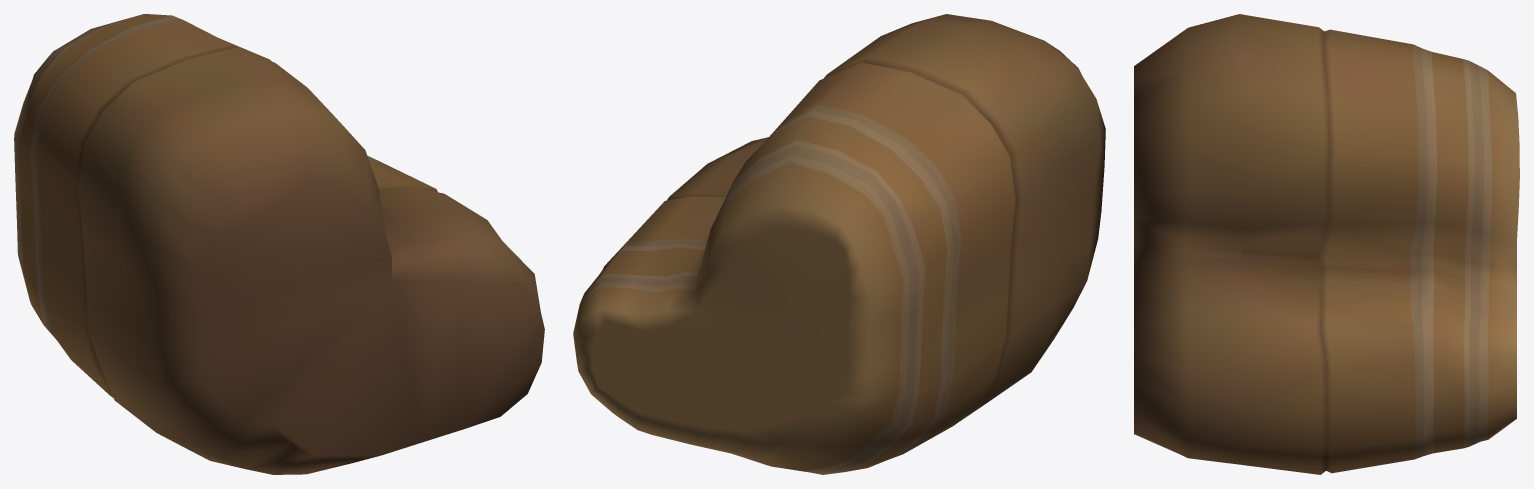
Rendered from SandStoneMesaLarge.002.glb.
3 views of the same model, side by side, from view 1: azimuth 30°, elevation 25°; view 2: azimuth 150°, elevation 25°; view 3: azimuth 270°, elevation 25° (orthographic). The views are drawn at different scales.
Parts seen in each view (by area): view 1: SandStoneMesaLarge.002; view 2: SandStoneMesaLarge.002; view 3: SandStoneMesaLarge.002.
Part boxes in pixels (left/top/right/bottom): SandStoneMesaLarge.002: left=14, top=14, right=544, bottom=474; SandStoneMesaLarge.002: left=573, top=14, right=1105, bottom=474; SandStoneMesaLarge.002: left=1134, top=14, right=1519, bottom=474.
Size of the model in its own units: 4104 by 3859 by 3810.
